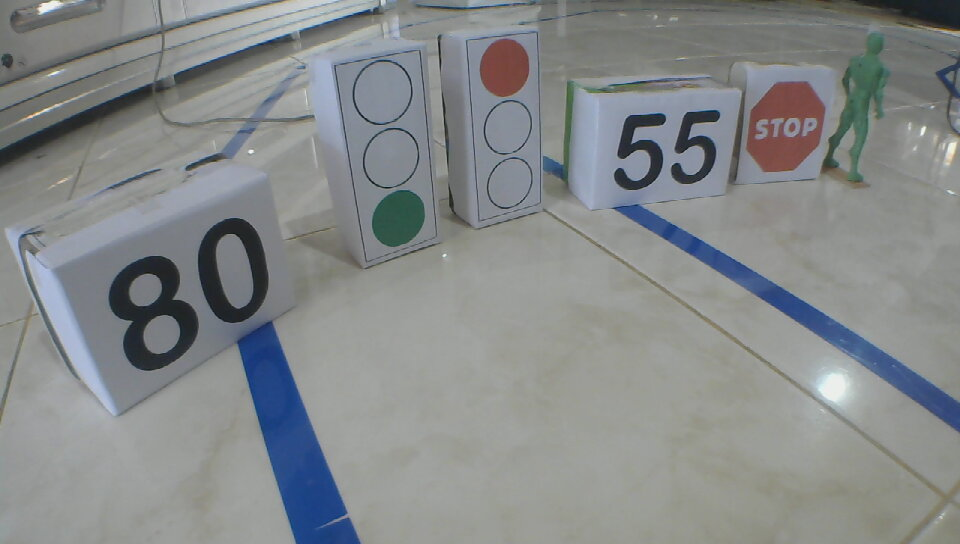Green Light: (349, 57, 428, 250)
Person: (825, 31, 890, 185)
Red Light: (478, 37, 535, 209)
Speed 55: (612, 107, 723, 193)
Speed 80: (98, 215, 271, 373)
Stop: (747, 81, 827, 177)
